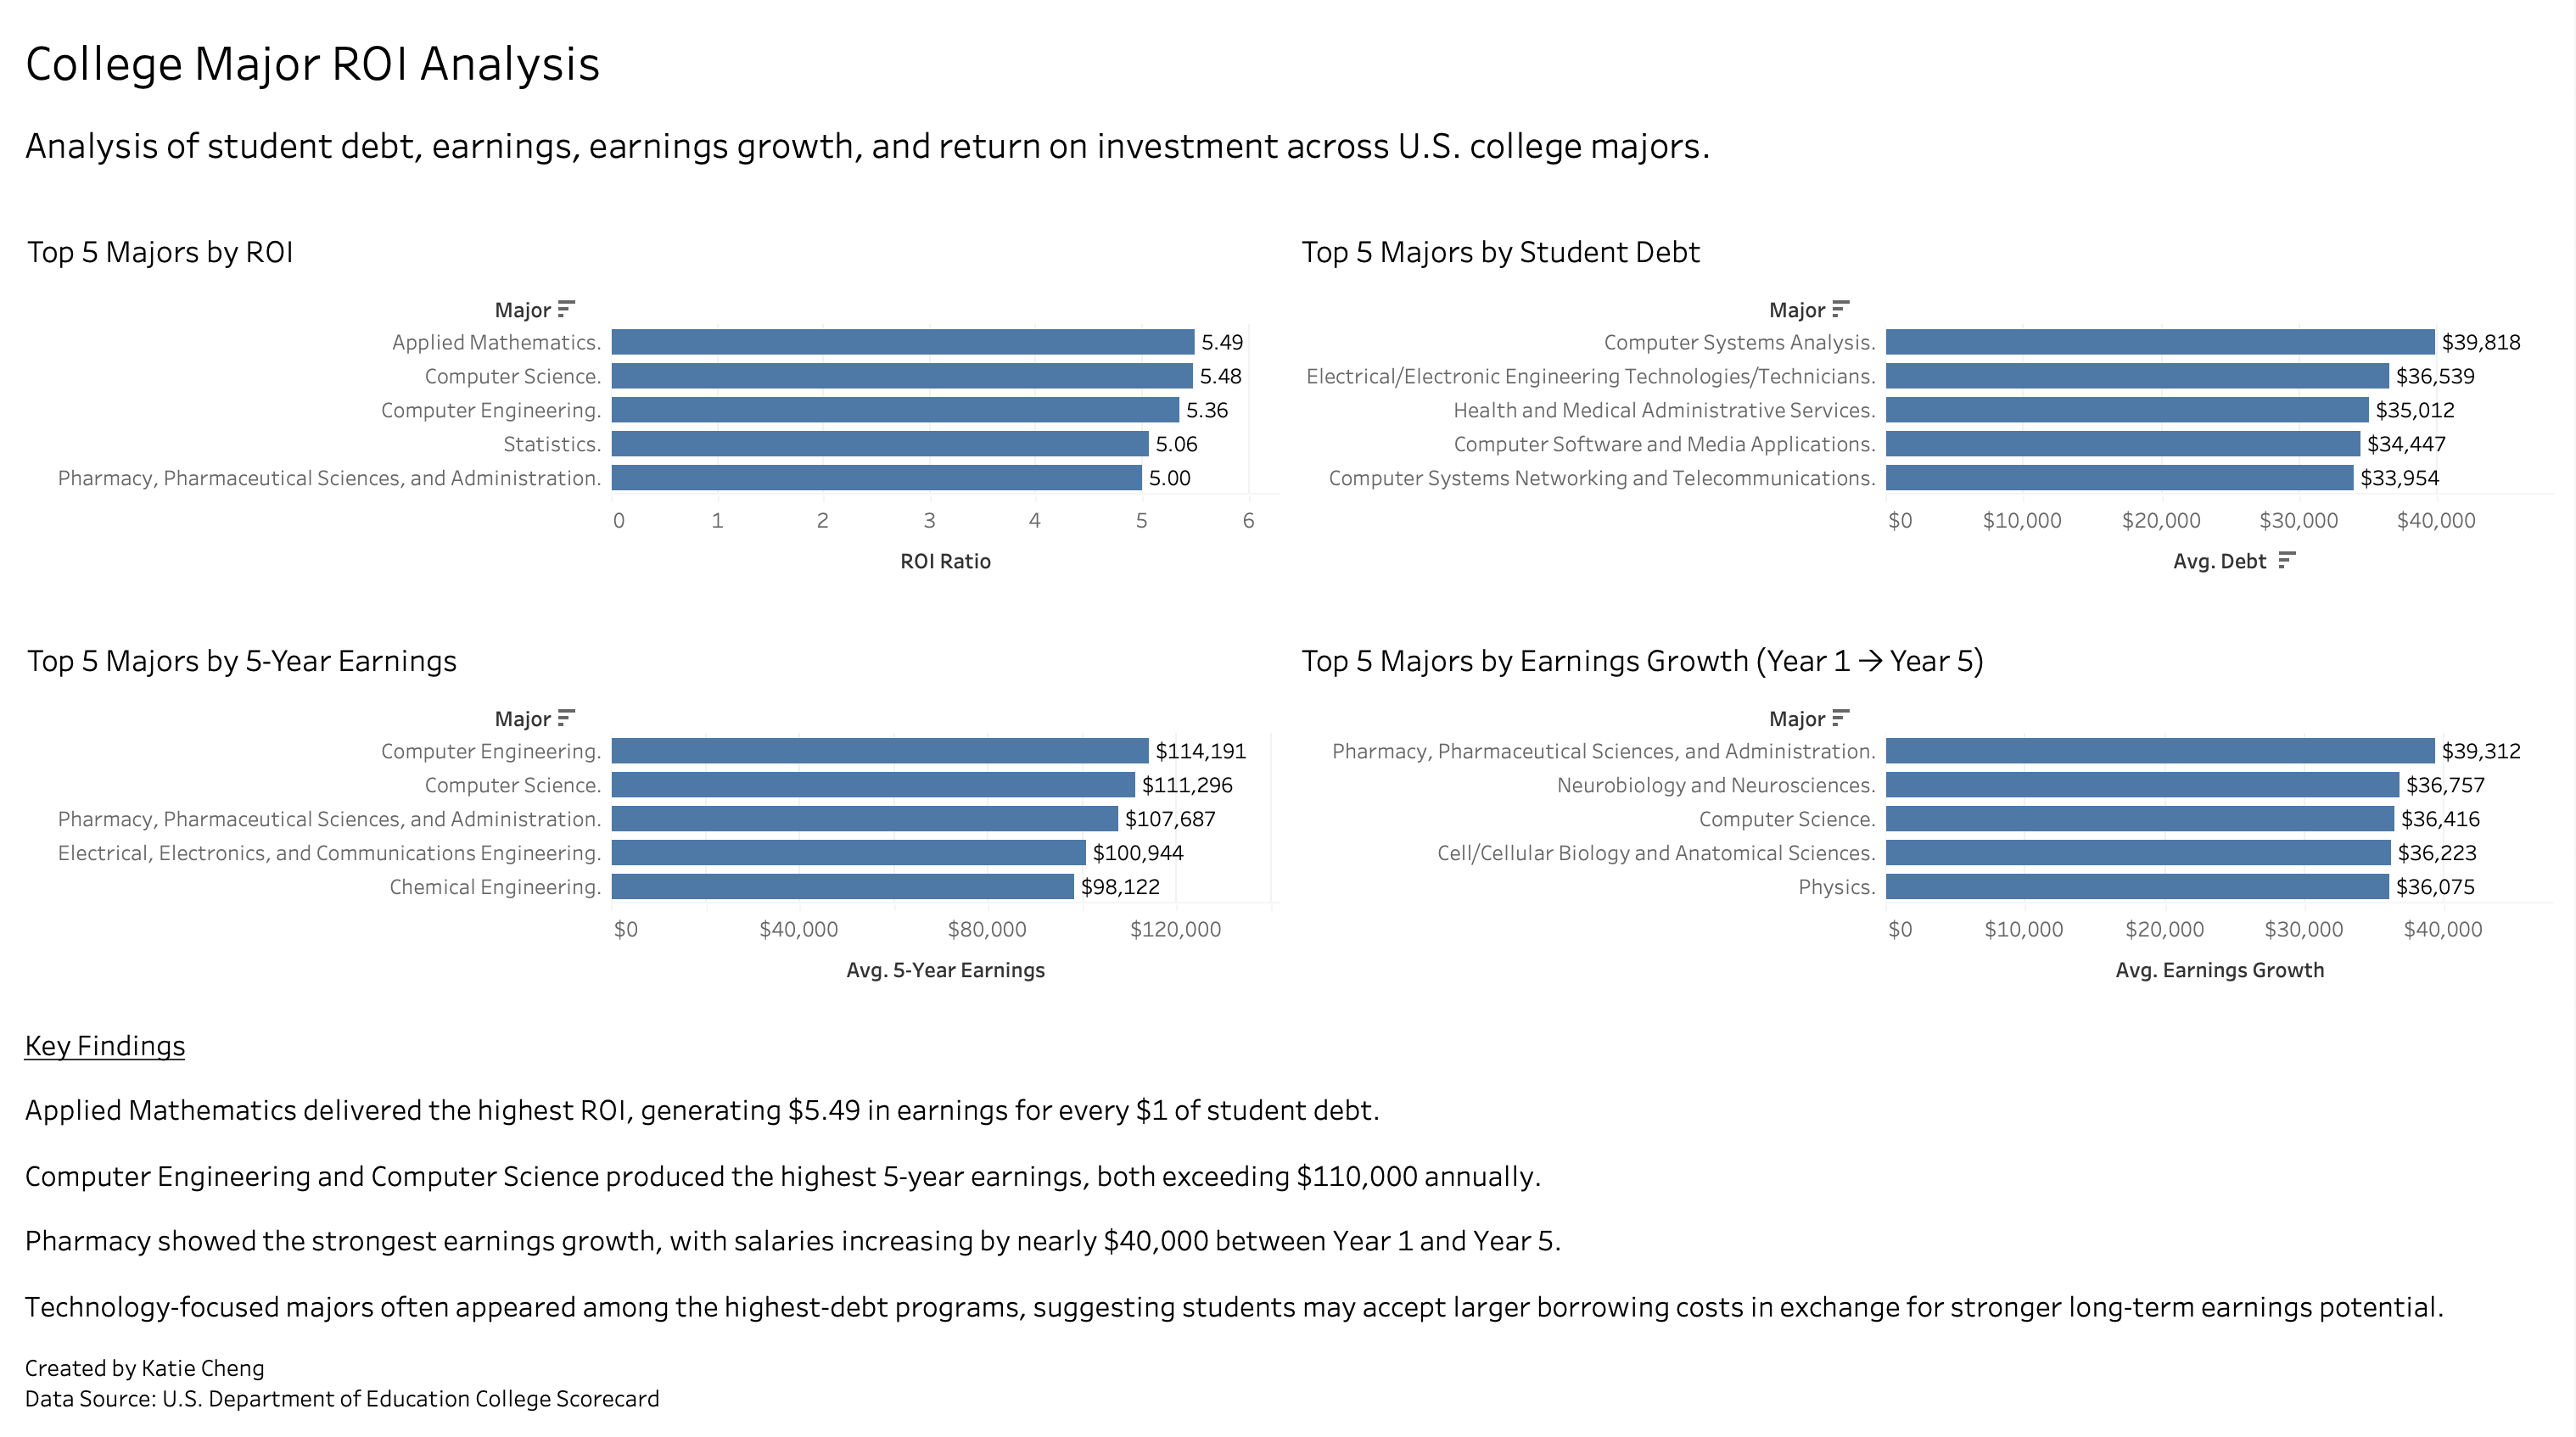

Layout of this report page (visuals, bound fields, positions):
{"tool":"tableau","page":{"name":"Dashboard 1","canvas":[1000,1000],"units":"permille","ordinal":0},"visuals":[{"type":"text","box":[5.3,9.2,989.5,158.9]},{"type":"worksheet","title":"Top ROI","mark":"Automatic","rows":["CIPDESC"],"cols":["avg_roi"],"box":[5.3,168.1,494.7,276.9]},{"type":"worksheet","title":"Highest Debt","mark":"Automatic","rows":["CIPDESC"],"cols":["avg_debt"],"box":[500,168.1,494.7,276.9]},{"type":"worksheet","title":"Highest Earnings","mark":"Automatic","rows":["CIPDESC"],"cols":["avg_earnings"],"box":[5.3,444.9,494.7,263.8]},{"type":"worksheet","title":"Earnings Growth","mark":"Automatic","rows":["CIPDESC"],"cols":["avg_growth"],"box":[500,444.9,494.7,263.8]},{"type":"text","box":[5.3,708.7,989.5,282.1]}]}

Visuals, with their boxes on the dashboard's canvas, which has no fixed pixel size, in thousandths of its width and height (x1, y1, x2, y2). These are canvas units, not pixel positions in the 2576x1437 screenshot, which may show the page scaled, cropped or inside an application window:
text: <region>5, 9, 995, 168</region>
"Top ROI" worksheet: <region>5, 168, 500, 445</region>
"Highest Debt" worksheet: <region>500, 168, 995, 445</region>
"Highest Earnings" worksheet: <region>5, 445, 500, 709</region>
"Earnings Growth" worksheet: <region>500, 445, 995, 709</region>
text: <region>5, 709, 995, 991</region>
